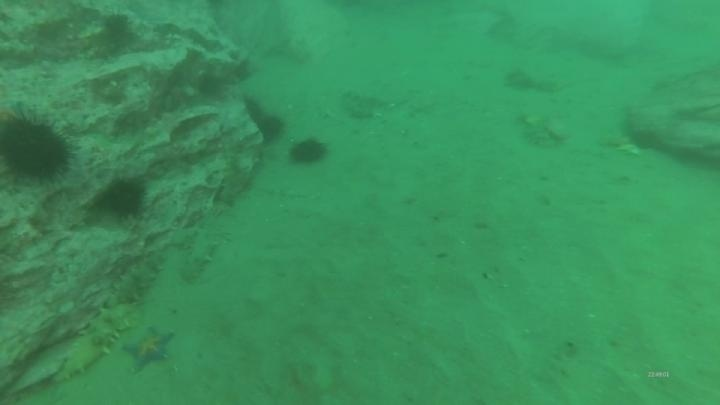echinus: (1, 107, 76, 186), (100, 175, 149, 220), (287, 135, 330, 170), (98, 11, 136, 49), (251, 109, 287, 145), (239, 96, 267, 123)
holothurian: (49, 300, 140, 386), (107, 248, 168, 310), (178, 224, 222, 286)
starfish: (119, 323, 177, 374), (1, 97, 29, 139)
